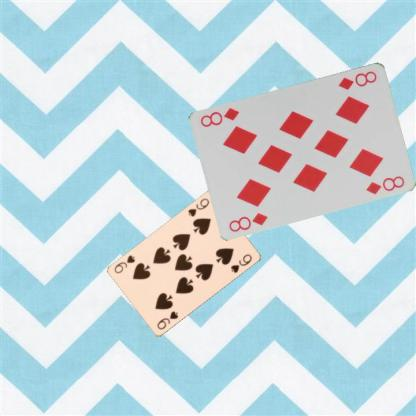8d: (226, 210, 270, 233), (336, 68, 378, 91)
9s: (154, 309, 180, 331), (186, 196, 210, 218)
